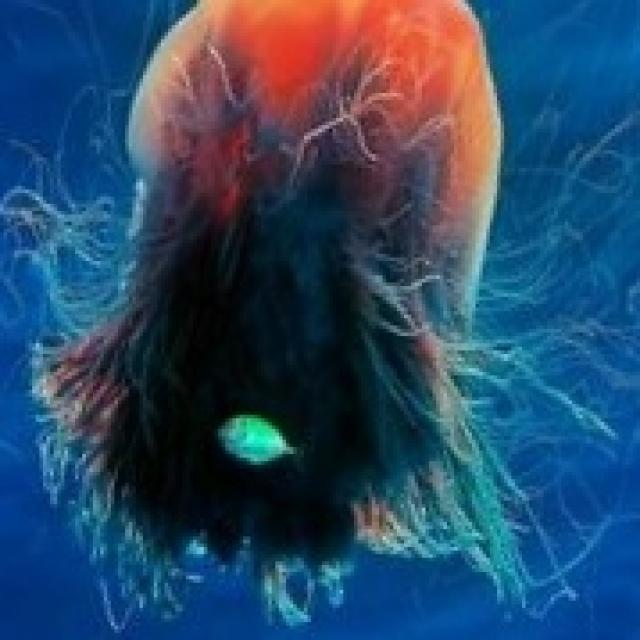Box-jellyfish: (21, 0, 618, 633)
